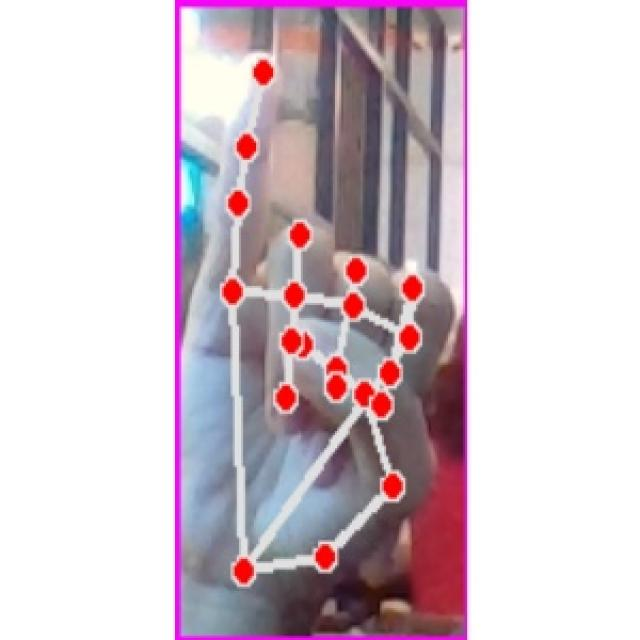I: (185, 43, 456, 612)
